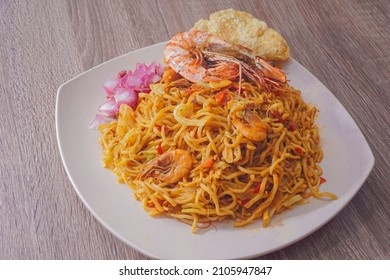mie_aceh: (91, 59, 338, 230)
